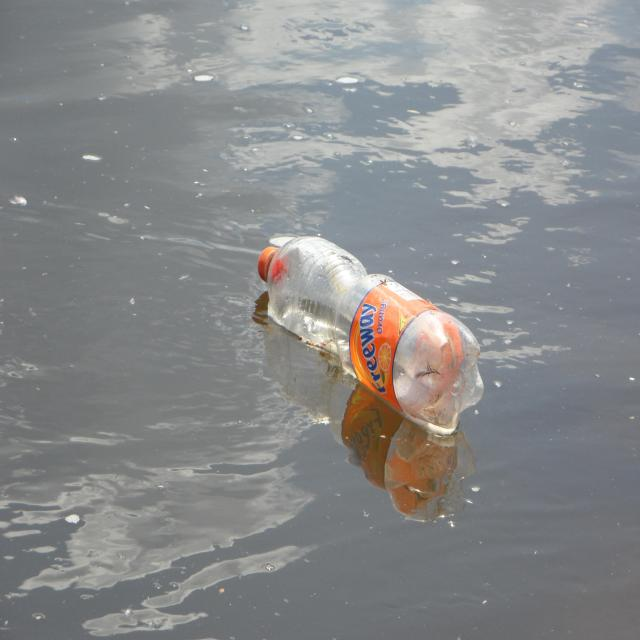plastic: (259, 234, 485, 433)
